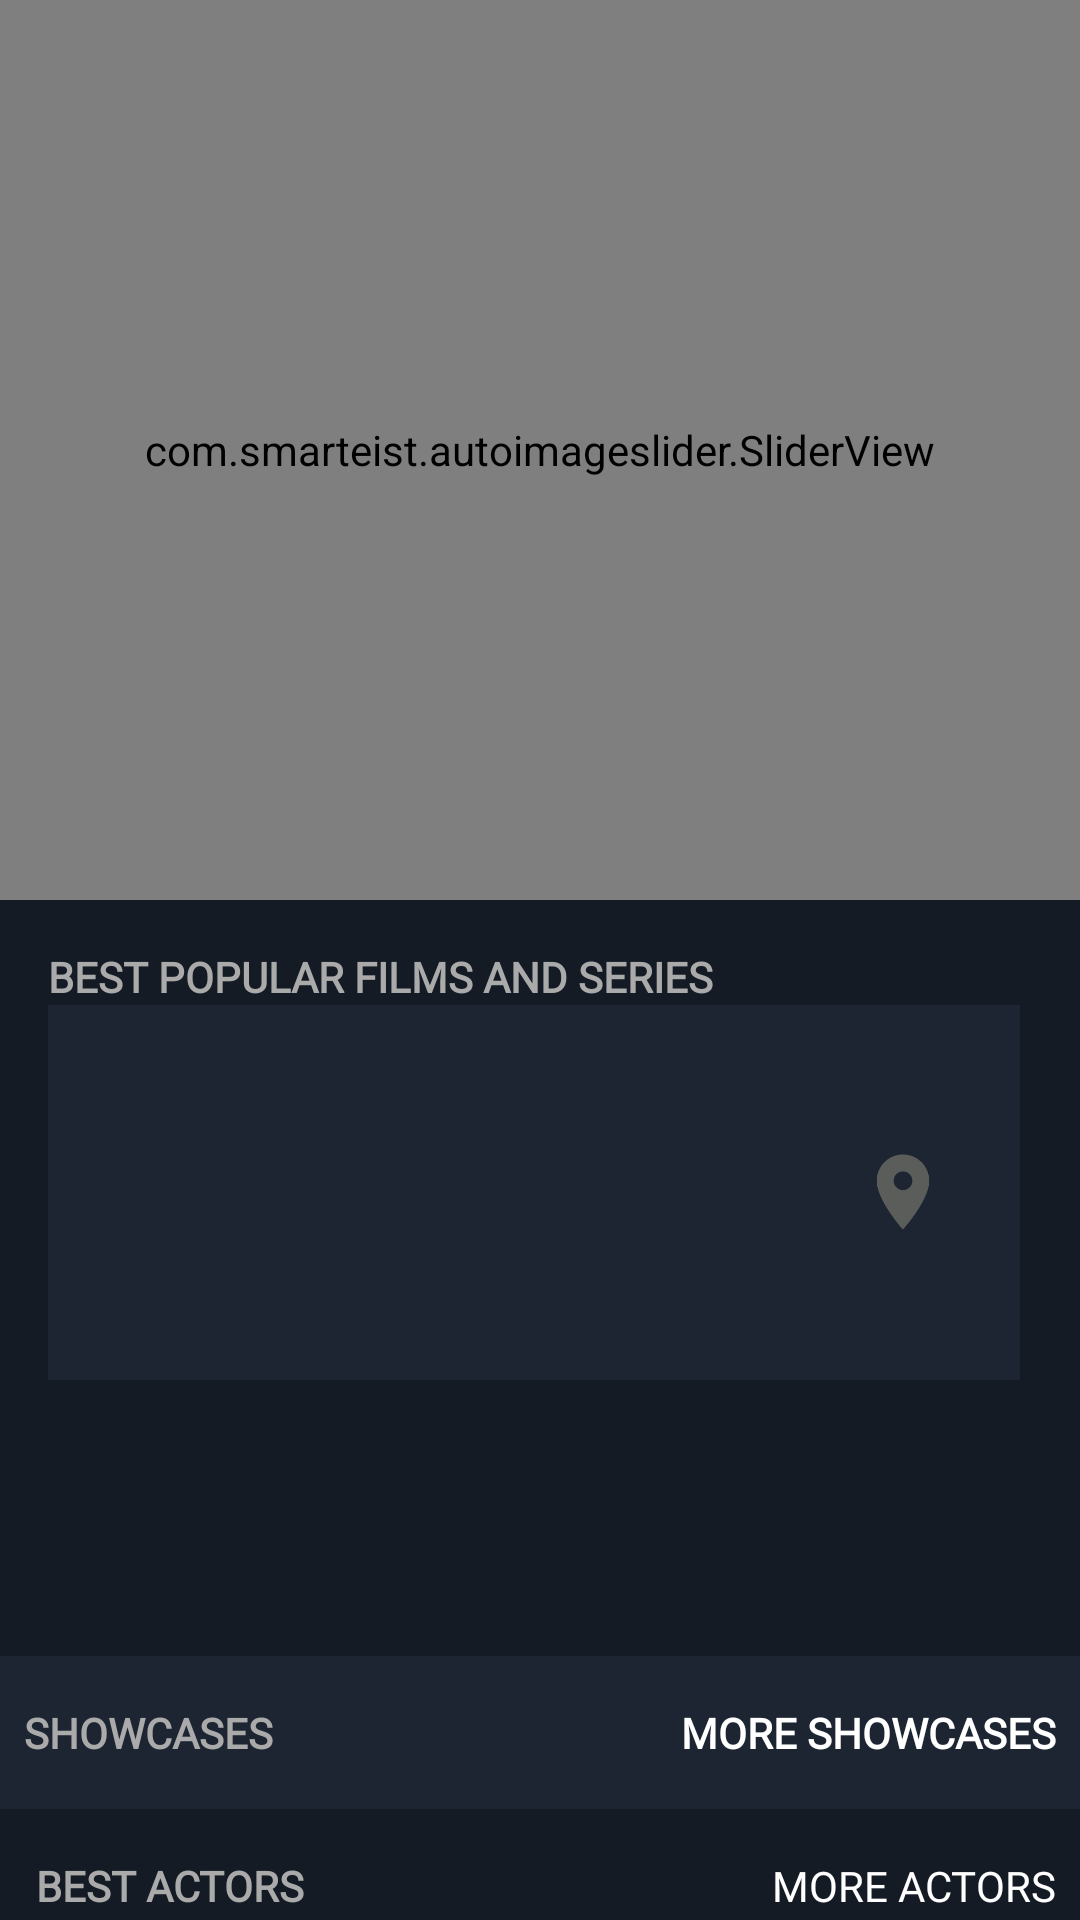

Icons on this 1080 × 1920 Android screen, each with the point to tap as (x=x, y=y):
location on: (x=903, y=1191)
